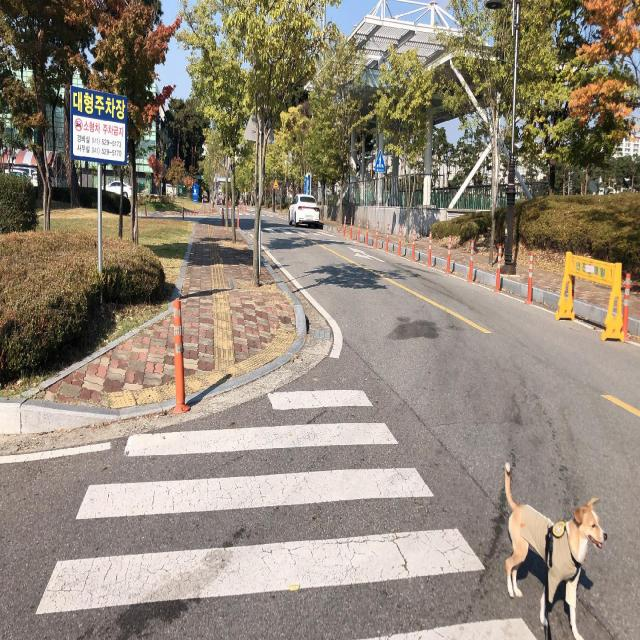횡단보도: (32, 383, 539, 637)
